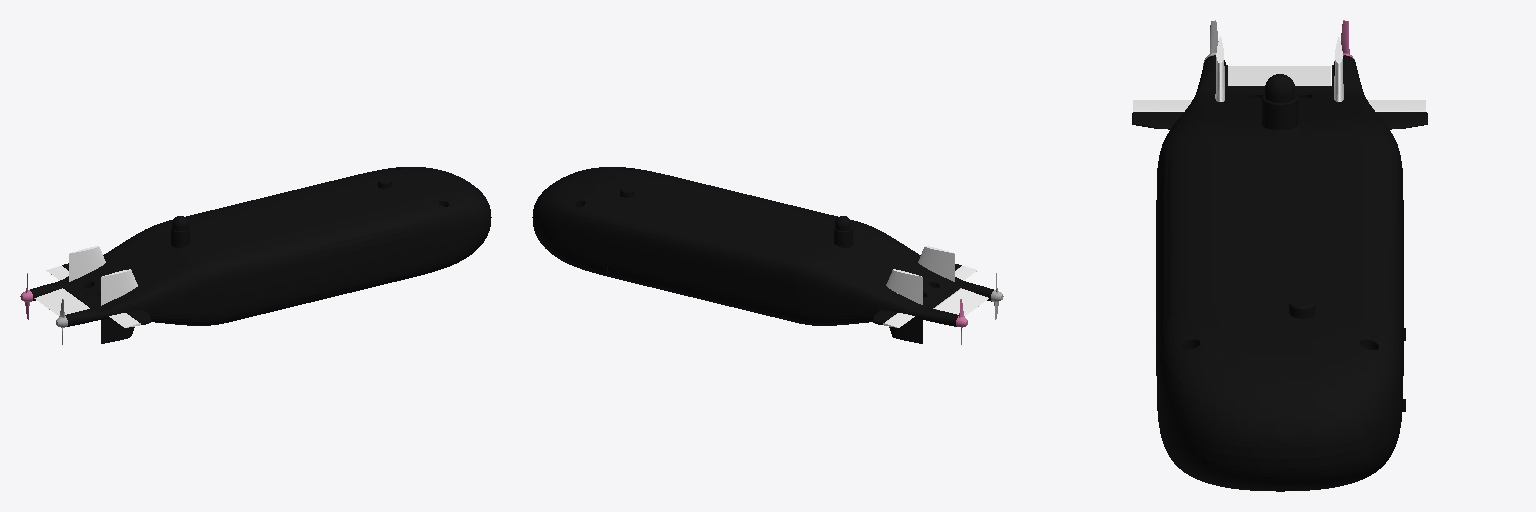
The robot description file, URDF, robot "lolo_auv":
<?xml version="1.0"?>
<robot name="lolo_auv">

  <link name="base_link">
    <visual>
      <!--This is the INS' reference point.-->
      <origin xyz="0 0 0" rpy="0 0 0"/>
      <geometry>
        <mesh filename="mesh/lolo_hull.dae" scale="1 1 1" />
      </geometry>
    </visual>
  </link>

  <link name="dvl_link"/>
  <link name="fls_link"/>
  <link name="gps_link"/>
  <link name="mbes_link"/>
  <link name="usbl_link"/>
  <link name="camera_link"/>
  
  <!-- Hydrostatic links.-->
  <link name="buoyancy_center_link"/>
  <link name="gravity_center_link"/>

  <link name="elevator">
    <visual>
      <origin xyz="0 0 0" rpy="0 0 0" />
      <geometry>
        <mesh filename="mesh/lolo_elevator.dae" scale="1 1 1"/>
      </geometry>
    </visual>
  </link>

  <link name="rudder_stbd">
    <visual>
      <origin xyz="0 0 0" rpy="0 0 0" />
      <geometry>
        <mesh filename="mesh/lolo_rudder.dae" scale="1 1 1"/>
      </geometry>
    </visual>
  </link>

  <link name="rudder_port">
    <visual>
      <origin xyz="0 0 0" rpy="0 0 0" />
      <geometry>
        <mesh filename="mesh/lolo_rudder.dae" scale="1 1 1"/>
      </geometry>
    </visual>
  </link>

  <link name="elevon_stbd">
    <visual>
      <origin xyz="0 0 0" rpy="0 0 0" />
      <geometry>
        <mesh filename="mesh/lolo_stbd_elevon.dae" scale="1 1 1"/>
      </geometry>
    </visual>
  </link>

  <link name="elevon_port">
    <visual>
      <origin xyz="0 0 0" rpy="0 0 0" />
      <geometry>
        <mesh filename="mesh/lolo_port_elevon.dae" scale="1 1 1"/>
      </geometry>
    </visual>
  </link>

  <link name="thruster_port">
    <visual>
      <origin xyz="0.0 0 0" rpy="0 0 0" />
      <geometry>
        <mesh filename="mesh/lolo_port_propeller.dae" scale="1 1 1"/>
      </geometry>
    </visual>
  </link>

  <link name="thruster_stbd">
    <visual>
      <origin xyz="0.0 0 0" rpy="0 0 0" />
      <geometry>
        <mesh filename="mesh/lolo_stbd_propeller.dae" scale="1 1 1"/>
      </geometry>
    </visual>
  </link>
  
  <!-- vertical thruster links -->

  <link name="vert_thruster_front_stbd">
	<visual>
      <origin xyz="0 0 0" rpy="0 0 0" />
      <geometry>
        <mesh filename="mesh/lolo_vert_thruster.dae" scale="1 1 1"/>
      </geometry>
    </visual>
  </link>
  
  <link name="vert_thruster_front_port">
	<visual>
      <origin xyz="0 0 0" rpy="0 0 0" />
      <geometry>
        <mesh filename="mesh/lolo_vert_thruster.dae" scale="1 1 1"/>
      </geometry>
    </visual>
  </link>
  
  <link name="vert_thruster_back_stbd">
	<visual>
      <origin xyz="0 0 0" rpy="0 0 0" />
      <geometry>
        <mesh filename="mesh/lolo_vert_thruster.dae" scale="1 1 1"/>
      </geometry>
    </visual>
  </link>
  
  <link name="vert_thruster_back_port">
	<visual>
      <origin xyz="0 0 0" rpy="0 0 0" />
      <geometry>
        <mesh filename="mesh/lolo_vert_thruster.dae" scale="1 1 1"/>
      </geometry>
    </visual>
  </link>

  <!-- joints -->
  <!-- control surfaces -->
  <joint name="elevator_joint" type="revolute">
    <origin xyz="-1.265 0 0.203" rpy="0 0 0" />
    <parent link="base_link" />
    <child link="elevator" />
    <limit effort="0" lower="-0.7853" upper="0.7853" velocity="0"/>
    <axis xyz="0 1 0"/>
  </joint>

  <joint name="rudder_stbd_joint" type="revolute">
    <origin xyz="-0.945 -0.252 0.287" rpy="0 0 0" />
    <parent link="base_link" />
    <child link="rudder_stbd" />
    <limit effort="0" lower="-0.7853" upper="0.7853" velocity="0"/>
    <axis xyz="0 0 1"/>
  </joint>

  <joint name="rudder_port_joint" type="revolute">
    <origin xyz="-0.945 0.252 0.287" rpy="0 0 0" />
    <parent link="base_link" />
    <child link="rudder_port" />
    <limit effort="0" lower="-0.7853" upper="0.7853" velocity="0"/>
    <axis xyz="0 0 1"/>
  </joint>

  <joint name="elevon_stbd_joint" type="revolute">
    <origin xyz="-1.04 -0.509 0.204" rpy="0 0 0" />
    <parent link="base_link" />
    <child link="elevon_stbd" />
    <limit effort="0" lower="-0.7853" upper="0.7853" velocity="0"/>
    <axis xyz="0 1 0"/>
  </joint>

  <joint name="elevon_port_joint" type="revolute">
    <origin xyz="-1.04 0.509 0.204" rpy="0 0 0" />
    <parent link="base_link" />
    <child link="elevon_port" />
    <limit effort="0" lower="-0.7853" upper="0.7853" velocity="0"/>
    <axis xyz="0 1 0"/>
  </joint>

  <!-- thrusters -->
  <joint name="thruster_stbd_joint" type="continuous">
    <origin xyz="-1.551 -0.277 0.204" rpy="0 0 0" />
    <axis xyz="1 0 0"/>
    <parent link="base_link"/>
    <child link="thruster_stbd"/>
  </joint>

  <joint name="thruster_port_joint" type="continuous">
    <origin xyz="-1.551 0.277 0.204" rpy="0 0 0" />
    <axis xyz="1 0 0"/>
    <parent link="base_link"/>
    <child link="thruster_port"/>
  </joint>

  <!-- vertical thrusters -->
  <joint name="vert_thruster_front_stbd_joint" type="continuous">
    <origin xyz="1.875 -0.381 0.241" rpy="0 0 0" />
    <axis xyz="0 0 1"/>
    <parent link="base_link"/>
    <child link="vert_thruster_front_stbd"/>
  </joint>

  <joint name="vert_thruster_front_port_joint" type="continuous">
    <origin xyz="1.875 0.381 0.241" rpy="0 0 0" />
    <axis xyz="0 0 1"/>
    <parent link="base_link"/>
    <child link="vert_thruster_front_port"/>
  </joint>

  <joint name="vert_thruster_back_stbd_joint" type="continuous">
    <origin xyz="-1.083 -0.102 0.193" rpy="0 0 0" />
    <axis xyz="0 0 1"/>
    <parent link="base_link"/>
    <child link="vert_thruster_back_stbd"/>
  </joint>

  <joint name="vert_thruster_back_port_joint" type="continuous">
    <origin xyz="-1.083 0.102 0.193" rpy="0 0 0" />
    <axis xyz="0 0 1"/>
    <parent link="base_link"/>
    <child link="vert_thruster_back_port"/>
  </joint>

  <!-- sensors -->
  <joint name="dvl_joint" type="fixed">
    <origin xyz="0.241 0.0025 0.007" rpy="0 0 0" />
    <parent link="base_link"/>
    <child link="dvl_link"/>
  </joint>

  <joint name="fls_joint" type="fixed">
    <origin xyz="2.263 -0.03 0.17" rpy="0 0.284 0" />
    <parent link="base_link"/>
    <child link="fls_link"/>
  </joint>

  <joint name="gps_joint" type="fixed">
    <origin xyz="-0.308 0.002 0.659" rpy="0 0 0" />
    <parent link="base_link"/>
    <child link="gps_link"/>
  </joint>

  <!--Norbit MBES-->
  <joint name="mbes_joint" type="fixed">
    <origin xyz="-0.753 0.0 0.088" rpy="3.14159 1.53589 0" />
    <parent link="base_link"/>
    <child link="mbes_link"/>
  </joint>

  <joint name="usbl_joint" type="fixed">
    <origin xyz="1.611 0.097 0.481" rpy="0 0 0" />
    <parent link="base_link"/>
    <child link="usbl_link"/>
  </joint>

  <joint name="camera_joint" type="fixed">
    <origin xyz="-0.6561 0.003 0.4935" rpy="-1.5707 0 1.5707" />
    <parent link="base_link"/>
    <child link="camera_link"/>
  </joint>

  <!-- Hydrostatic joints.-->
  <joint name="gravity_center_joint" type="fixed">
    <origin xyz="0.598 0.0 0.168" rpy="0 0 0" />
    <parent link="base_link"/>
    <child link="gravity_center_link"/>
  </joint>

  <joint name="buoyancy_center_joint" type="fixed">
    <origin xyz="0.61 0.0 0.232" rpy="0 0 0" />
    <parent link="base_link"/>
    <child link="buoyancy_center_link"/>
  </joint>


</robot>

--- Render facts (derived) ---
Views: 3 orthographic renders of the robot side by side, from view 1: azimuth 30°, elevation 25°; view 2: azimuth 150°, elevation 25°; view 3: azimuth 270°, elevation 25°.
Robot: lolo_auv — 20 links, 19 joints (5 revolute, 6 continuous, 8 fixed); root link base_link; default pose: all joints at 0.
Links seen in each view (by area): view 1: base_link, rudder_stbd, rudder_port, elevator; view 2: base_link, rudder_stbd, rudder_port, elevator; view 3: base_link, elevator, elevon_stbd, elevon_port.
Link boxes in pixels (x1=…): base_link: x1=30, y1=167, x2=491, y2=343; rudder_stbd: x1=101, y1=269, x2=137, y2=305; rudder_port: x1=69, y1=246, x2=105, y2=281; elevator: x1=34, y1=288, x2=89, y2=315; base_link: x1=532, y1=167, x2=993, y2=343; rudder_stbd: x1=918, y1=246, x2=954, y2=281; rudder_port: x1=886, y1=269, x2=922, y2=304; elevator: x1=933, y1=288, x2=988, y2=315; base_link: x1=1132, y1=55, x2=1427, y2=491; elevator: x1=1228, y1=66, x2=1330, y2=85; elevon_stbd: x1=1133, y1=100, x2=1191, y2=111; elevon_port: x1=1368, y1=100, x2=1425, y2=111.
Bounding box of the posed robot: 4.03 × 1.25 × 0.8206 m (x, y, z).
12 mesh visuals loaded from 8 distinct referenced files (8 Collada DAE).
